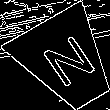N_SE: (34, 30, 100, 94)
